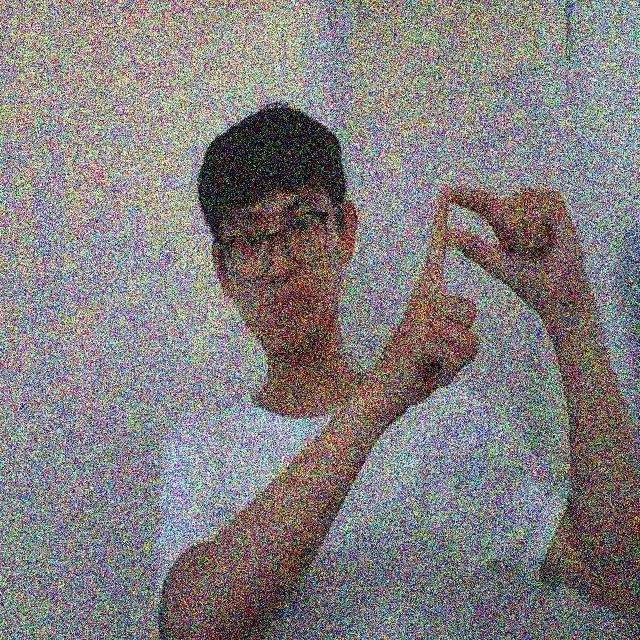P: (404, 147, 561, 372)
